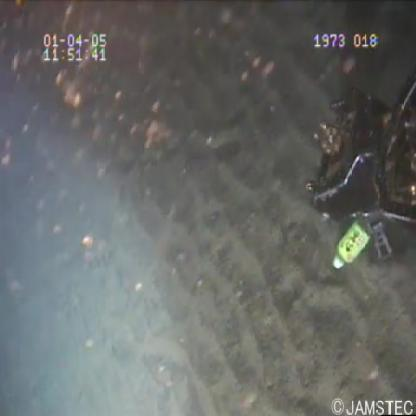Rov: (301, 67, 416, 260)
Rác: (334, 215, 371, 271)
